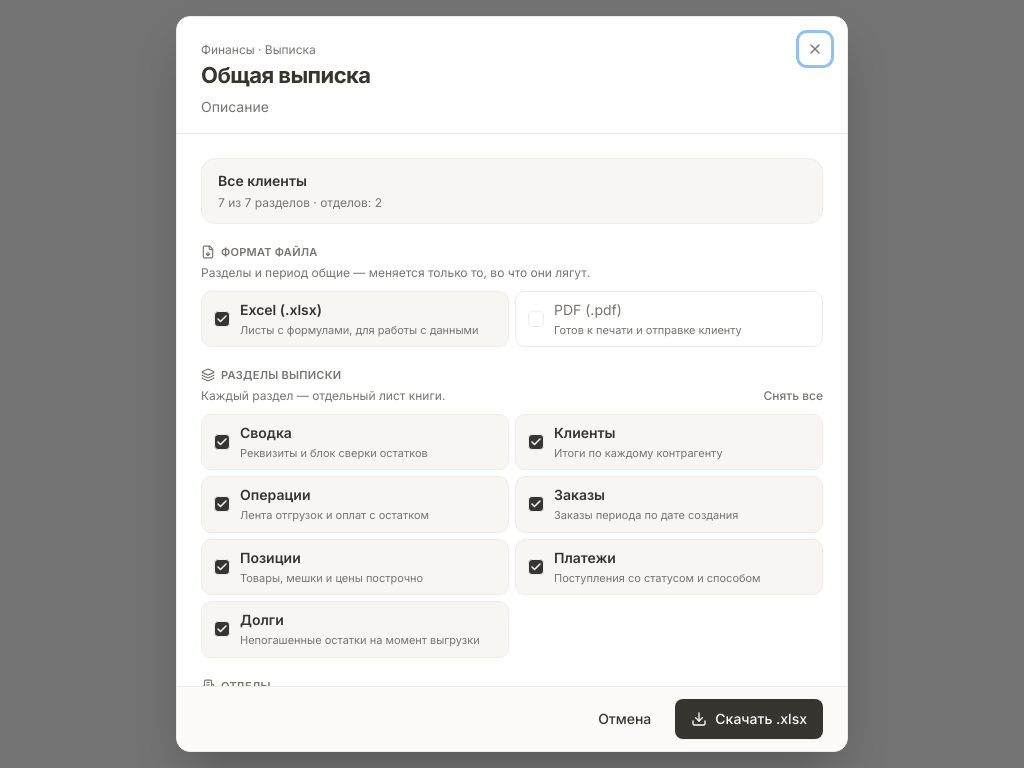
StatementExportModal › shows the server reason from a Blob error body instead of a generic error
The width and height of the screenshot is (1024, 768).
Click the button "Скачать .xlsx". click: point(749, 719)
box: x1=675 y1=699 x2=823 y2=739
(page scrolled)
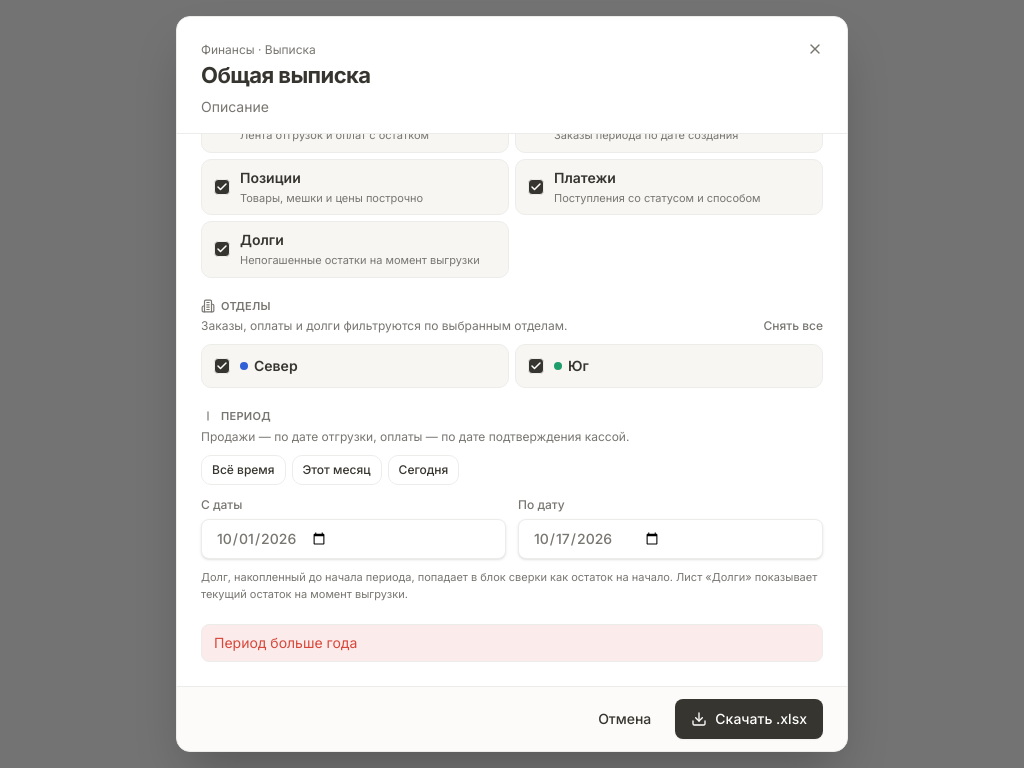
Check: the text "Период больше года" is shown, box x1=201 y1=624 x2=823 y2=662
